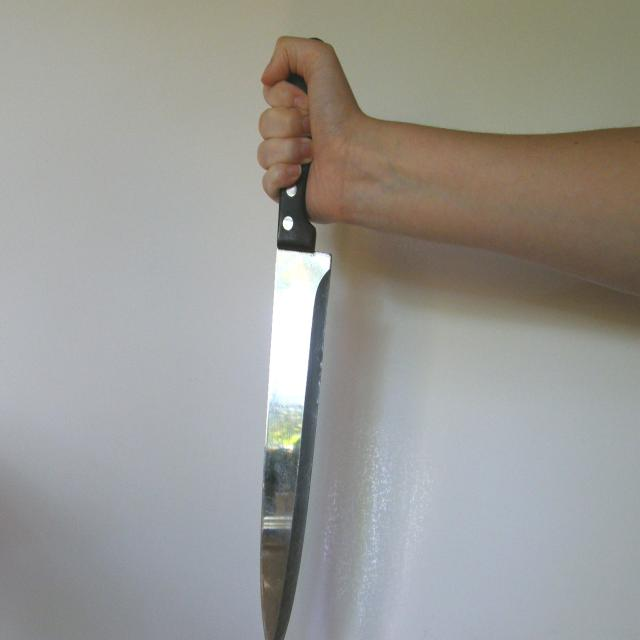knife: (252, 30, 335, 640)
